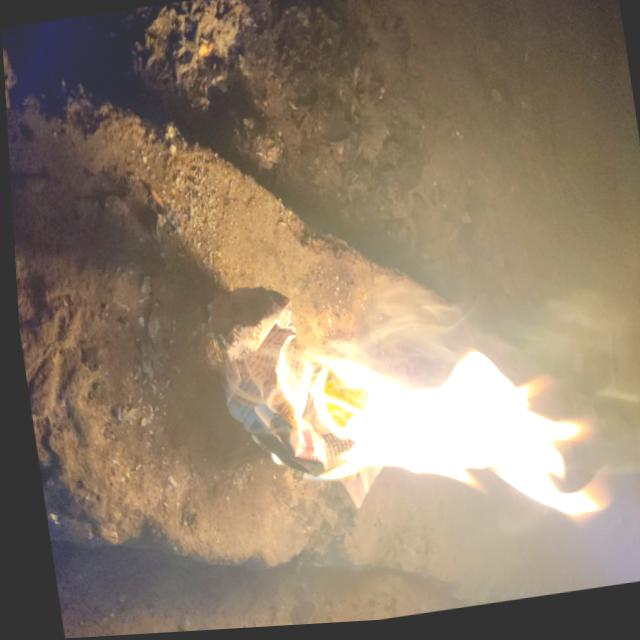helmet: (265, 304, 603, 565)
